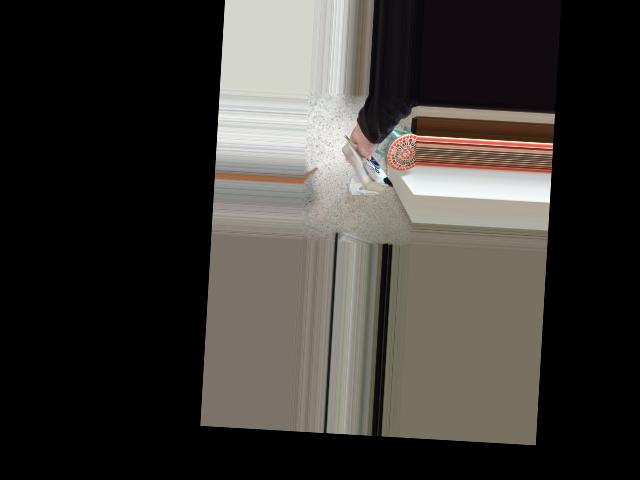cheese: (332, 124, 404, 202)
